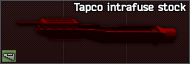SKS TAPCO Intrafuse stock: (0, 0, 190, 64)
